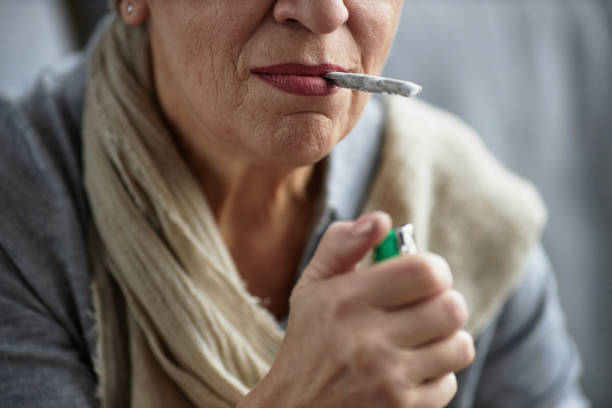cigarette: (327, 72, 423, 98)
